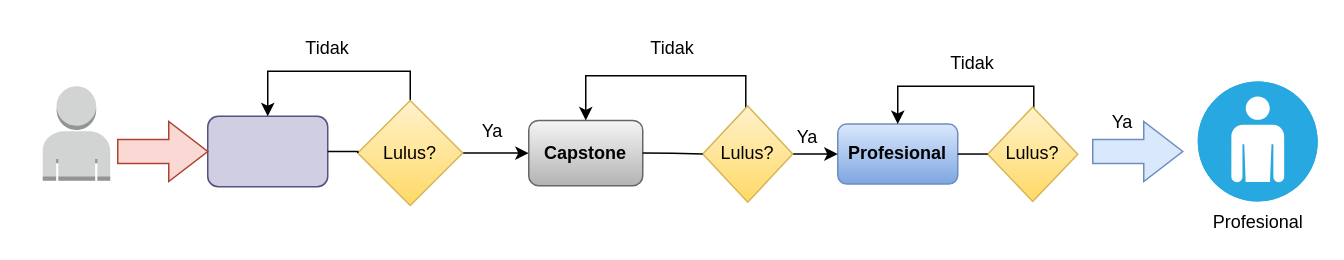
The diagram is 1344 pixels wide and 260 high, and some of its shapes have lost their labels. The centre of each missing label's shape, as x and y in pixels:
"Enthusiastic Student" goes at (x=75, y=133).
"Incubator" goes at (x=267, y=151).
